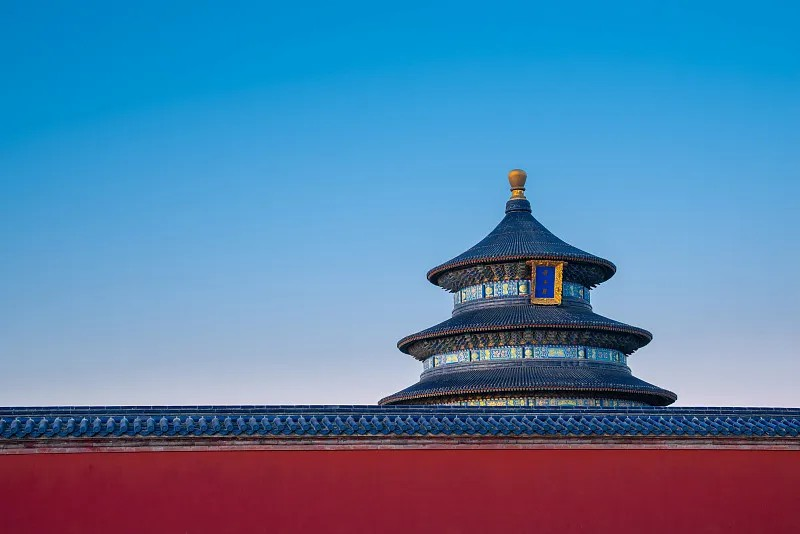Heaven: (380, 170, 679, 412)
